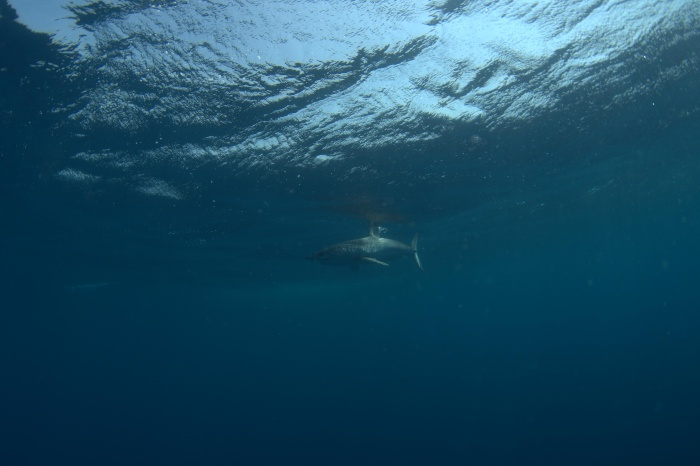Mako: (297, 219, 432, 284)
